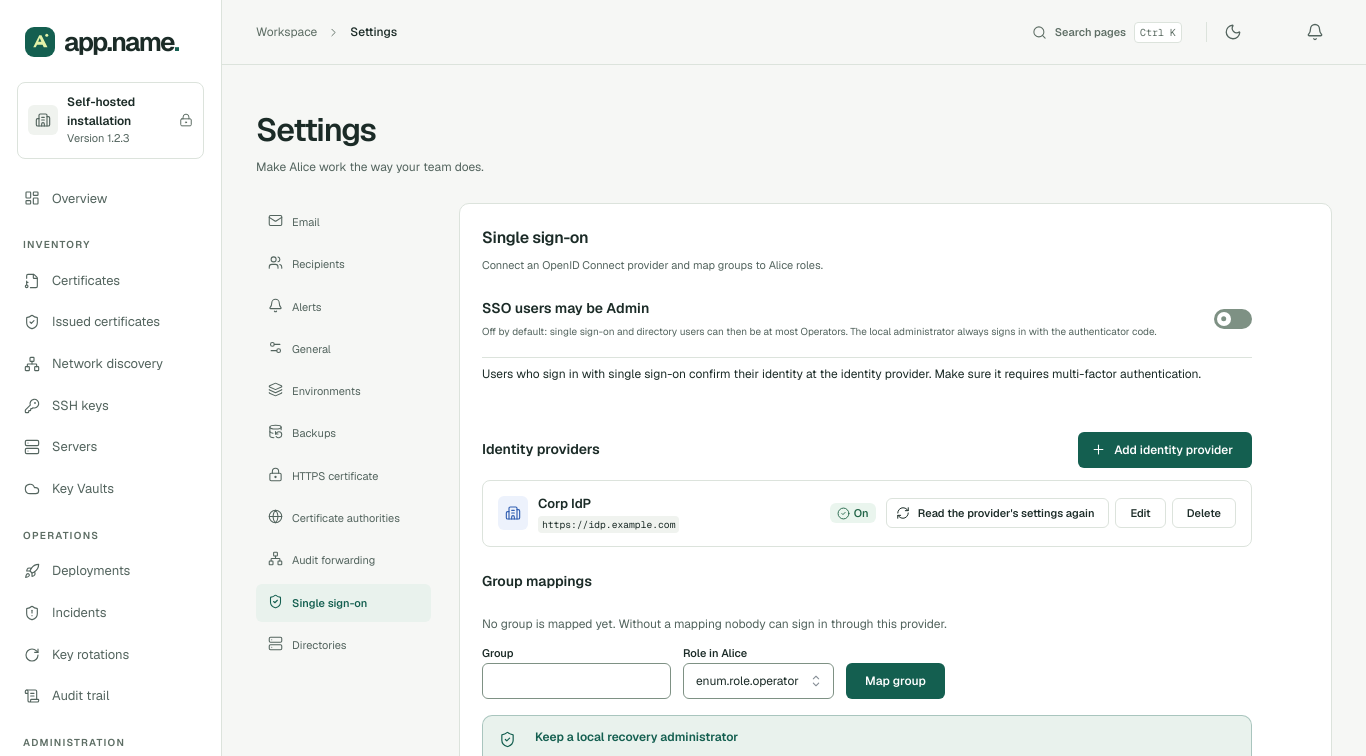
Test: SSOSettings › adds a provider, keeps its client secret out of the page and shows the address to register
Click the button "Add identity provider". click: (1165, 450)
box: [1078,432,1252,468]
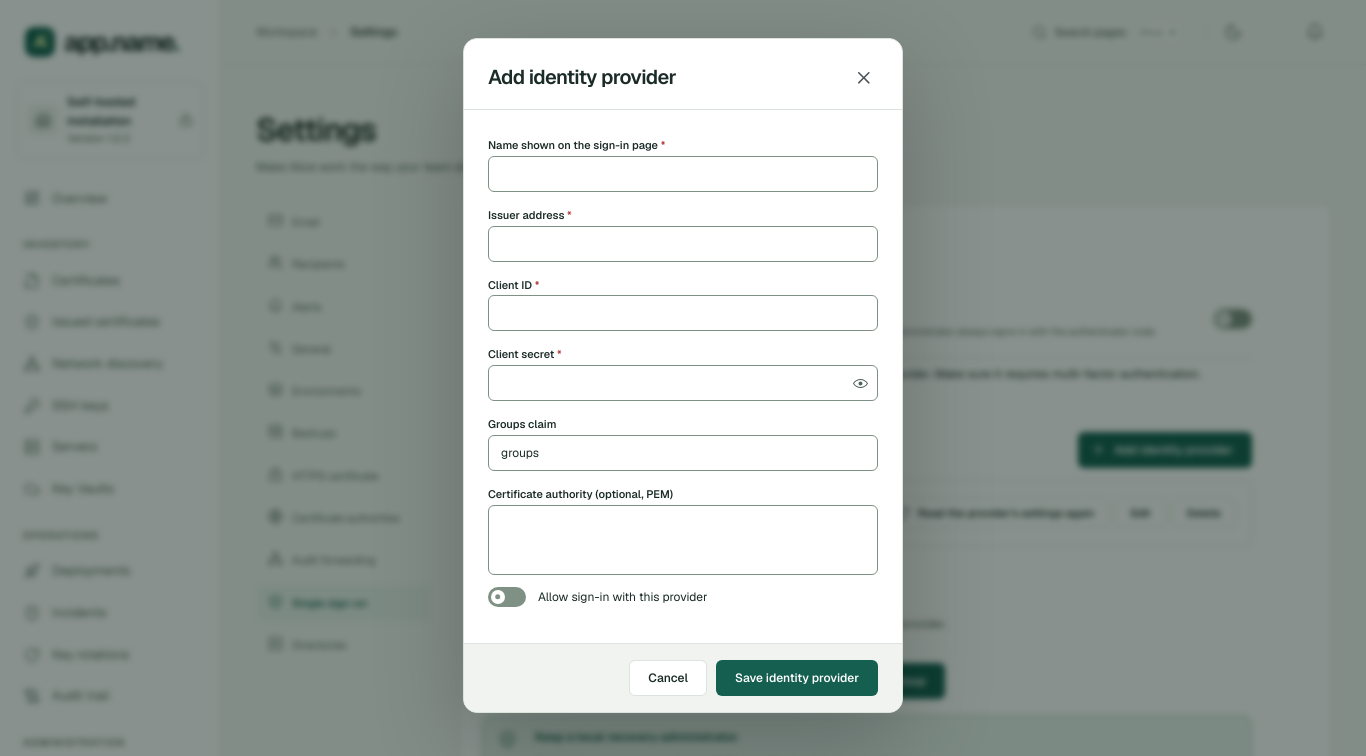
Expected: the field labelled "Groups claim" holds "groups", [488,435,878,471]
Expected: the 2nd switch labelled "Allow sign-in with this provider" is not checked, [488,586,708,606]
Type "Second" into the field labelled "Name shown on the sign-in page *". click: (683, 174)
box: [488,156,878,192]
Type "https://idp2.example.com" into the field labelled "Issuer address *". click: (683, 244)
box: [488,226,878,262]
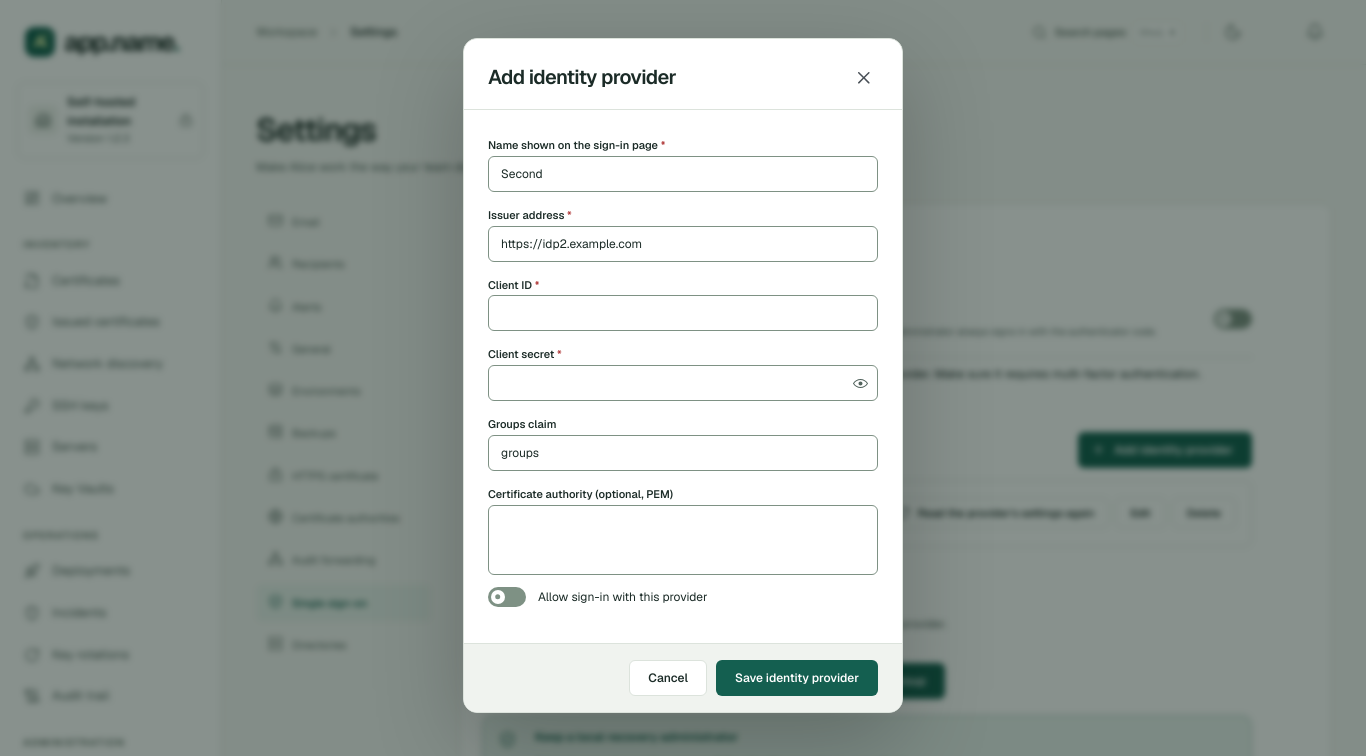
Type "cid" into the field labelled "Client ID *". click: (683, 314)
box: [488,296,878,332]
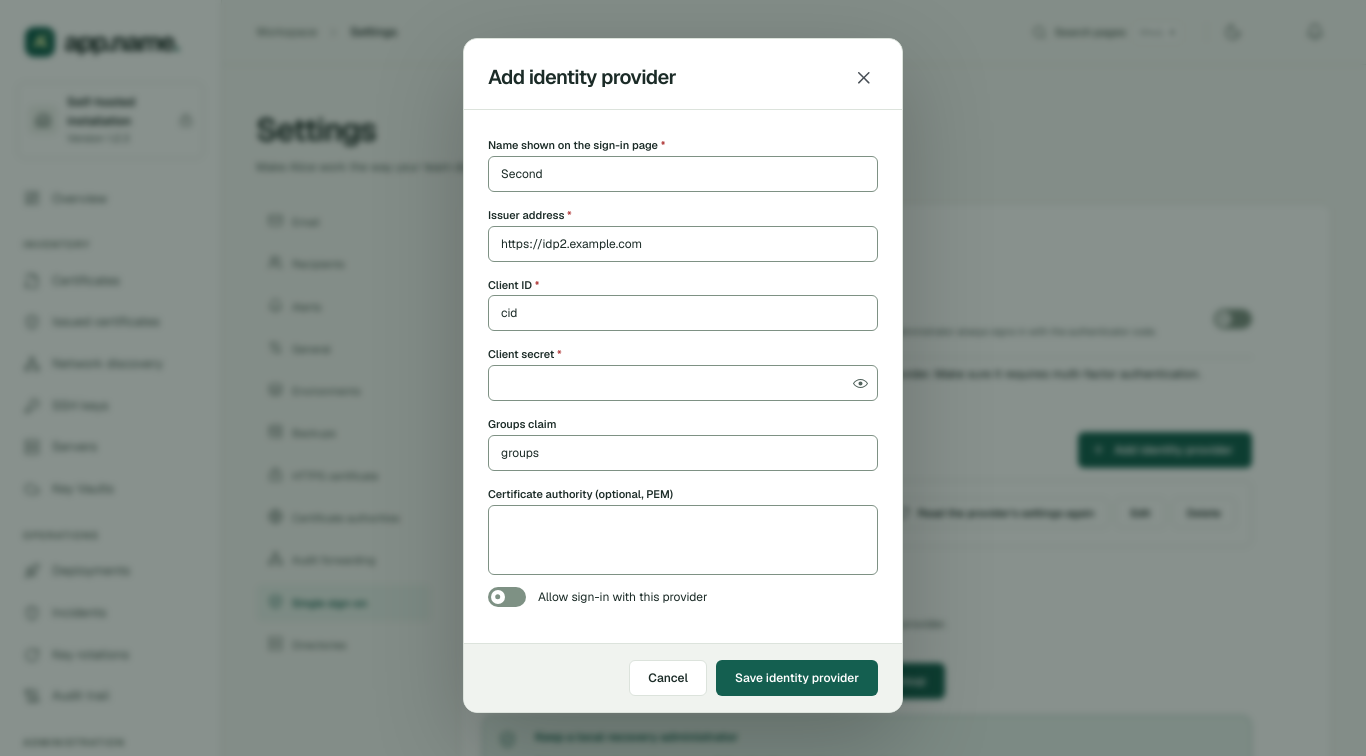
Type "canary-secret-value" into the password field labelled "Client secret *". click: (683, 383)
box: [489,366,877,400]
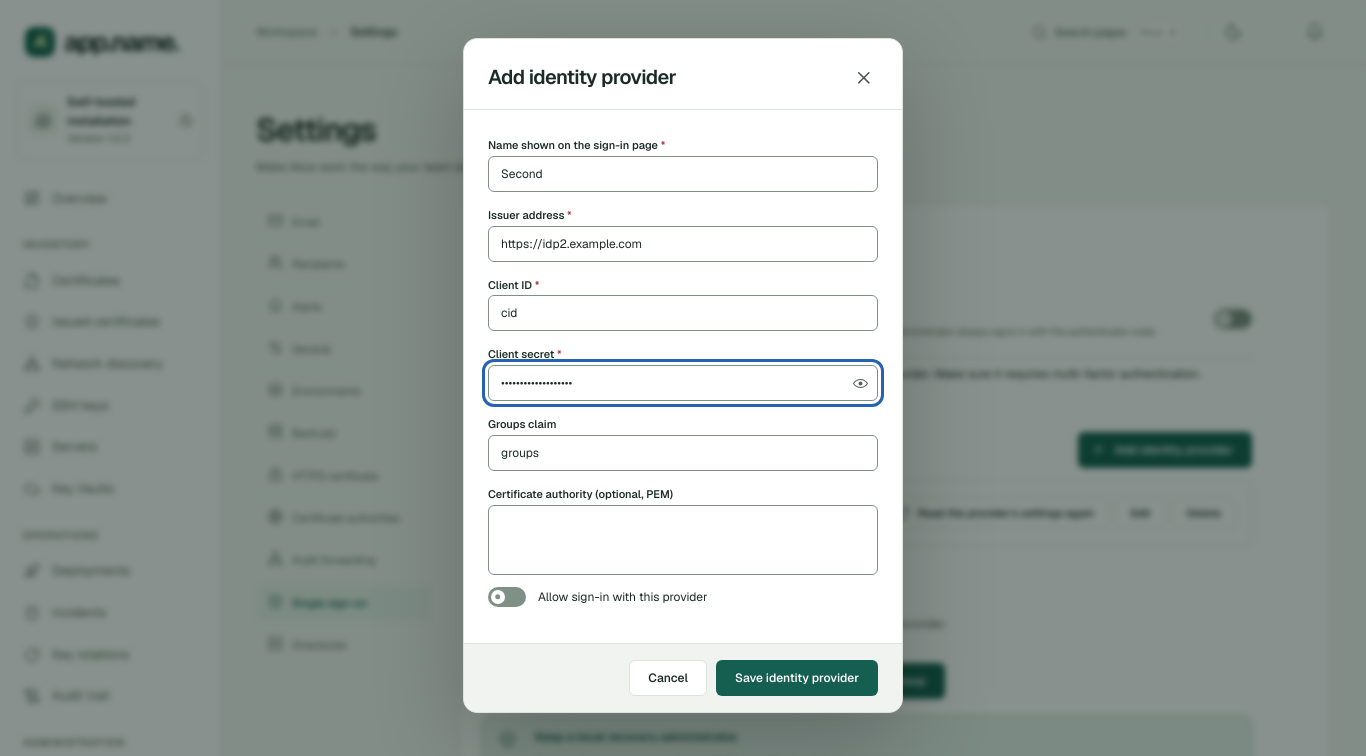
Click the button "Save identity provider". click: (797, 678)
box: [716,660,878,696]
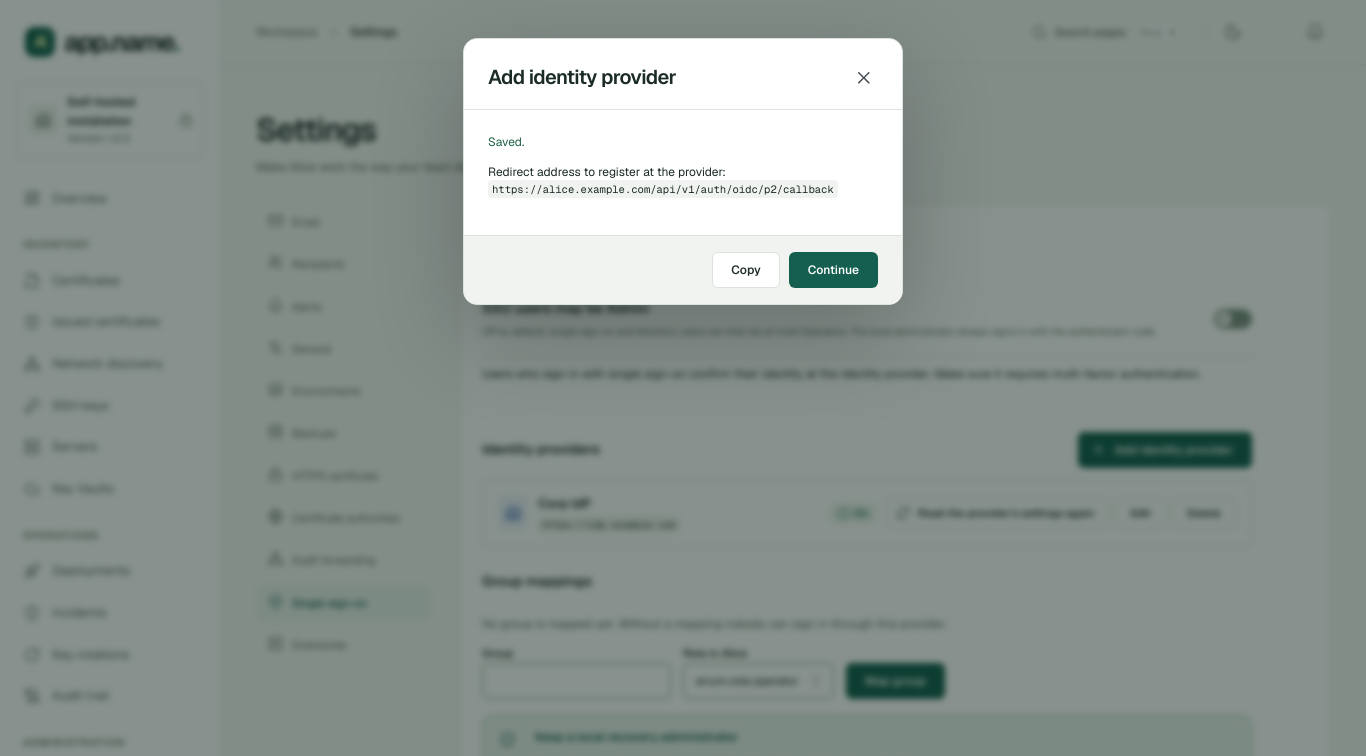
Expected: the button "Copy" is shown, [712,252,780,288]
Click the button named "Close". click: (864, 77)
box: [850,63,878,91]
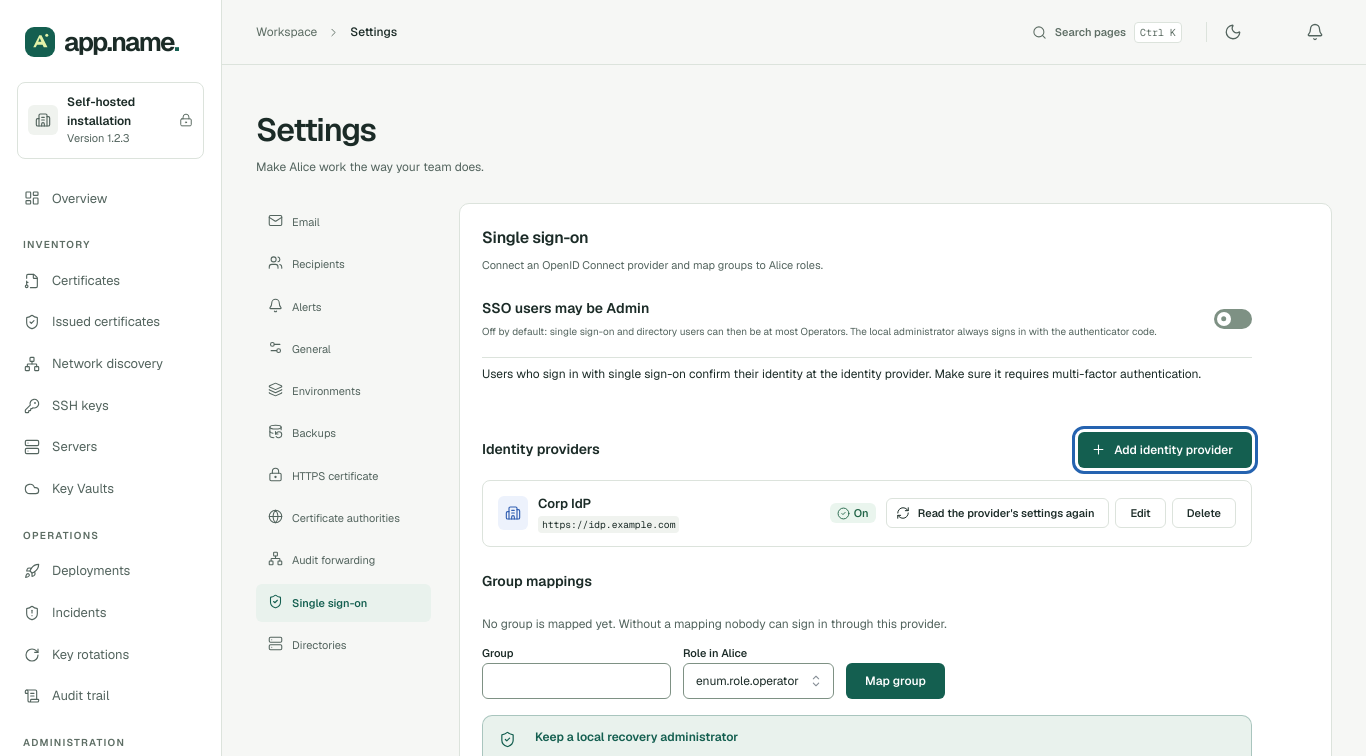
Expected: the dialog is gone
